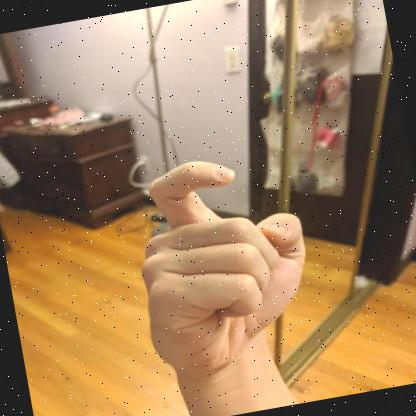X: (141, 161, 305, 370)
